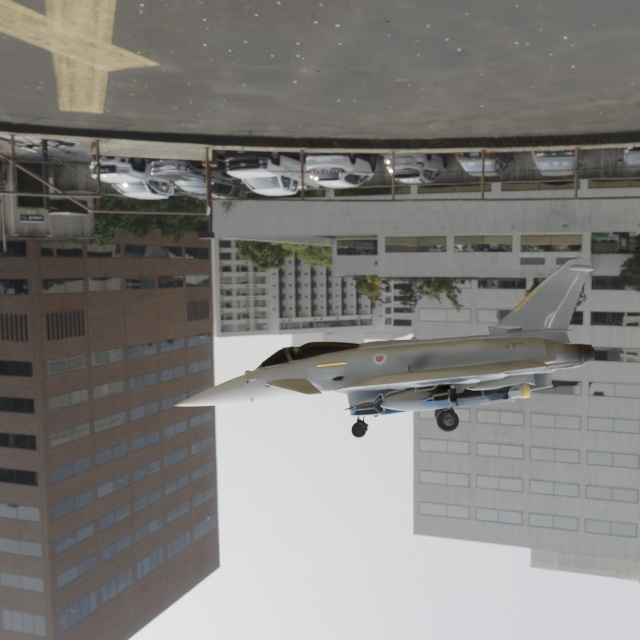eurofighter_typhoon_3d: (97, 232, 640, 488)
